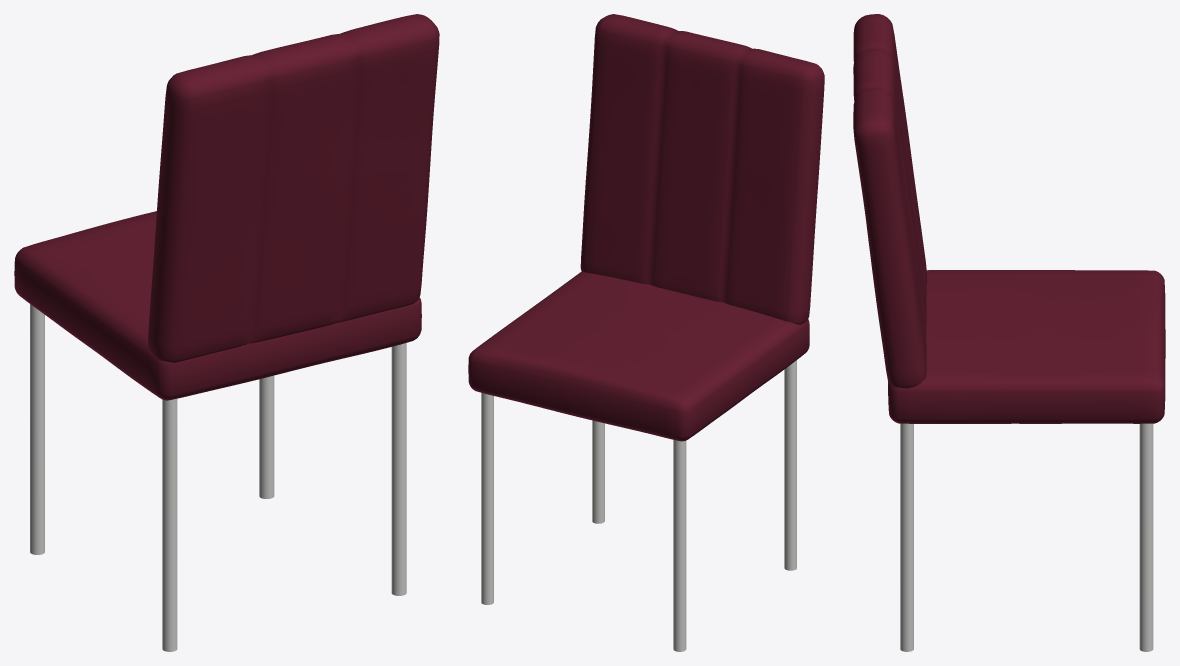
Rendered from recRde1rKepGZBUDn.glb.
3 renders of one model, left to right at view 1: azimuth 30°, elevation 25°; view 2: azimuth 150°, elevation 25°; view 3: azimuth 270°, elevation 25°, orthographic. The views are drawn at different scales.
Parts seen in each view (by area): view 1: Chaise_1_Dossier, Chaise_1_Assise, Chaise_1_Pieds; view 2: Chaise_1_Dossier, Chaise_1_Assise, Chaise_1_Pieds; view 3: Chaise_1_Assise, Chaise_1_Dossier, Chaise_1_Pieds.
Boxes of the visible parts, box(x1,y1,x2,y2) form: Chaise_1_Dossier: box(148, 14, 439, 362); Chaise_1_Assise: box(14, 211, 421, 400); Chaise_1_Pieds: box(30, 304, 406, 651); Chaise_1_Dossier: box(580, 14, 824, 324); Chaise_1_Assise: box(468, 271, 809, 441); Chaise_1_Pieds: box(481, 360, 796, 651); Chaise_1_Assise: box(888, 270, 1165, 423); Chaise_1_Dossier: box(853, 14, 926, 388); Chaise_1_Pieds: box(900, 423, 1153, 651).
Bounding box in the file's own units: 0.4406 × 0.9328 × 0.4958.
